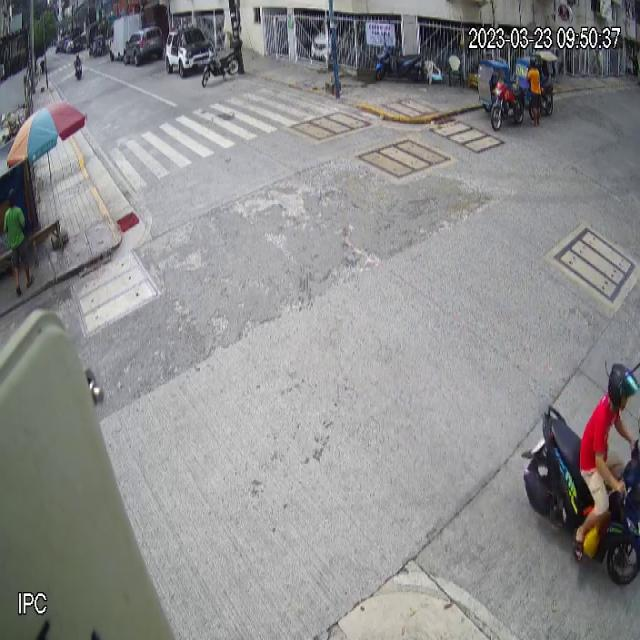Motorcycle: (521, 404, 640, 586)
Tricycle: (478, 57, 526, 132)
